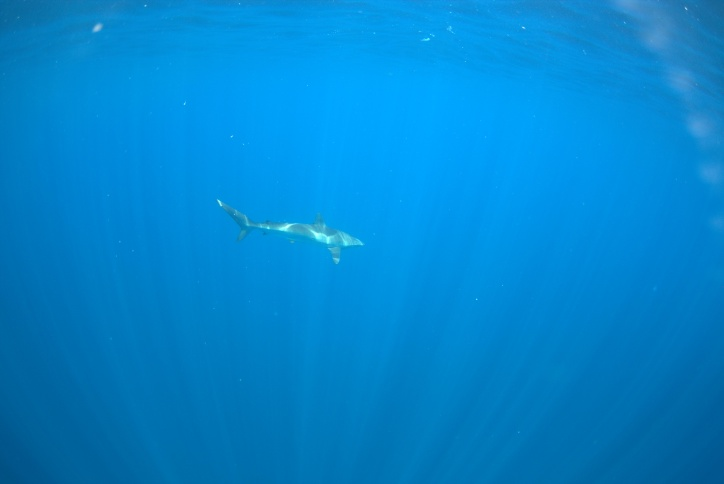Sedoso: (206, 184, 369, 271)
